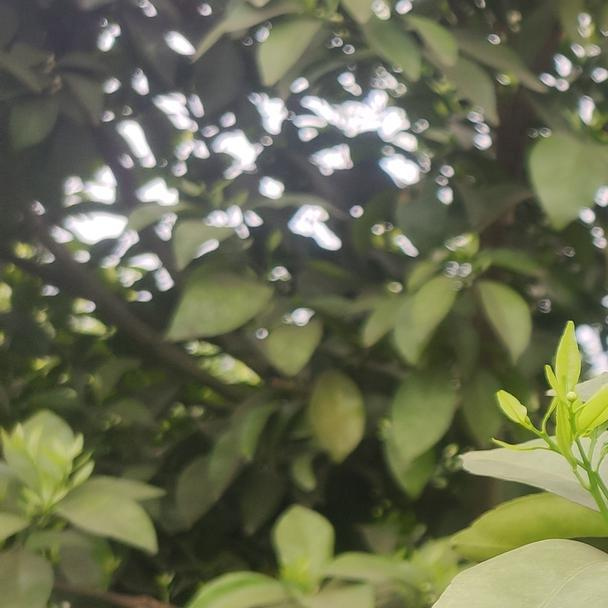shoot: (502, 339, 608, 498)
